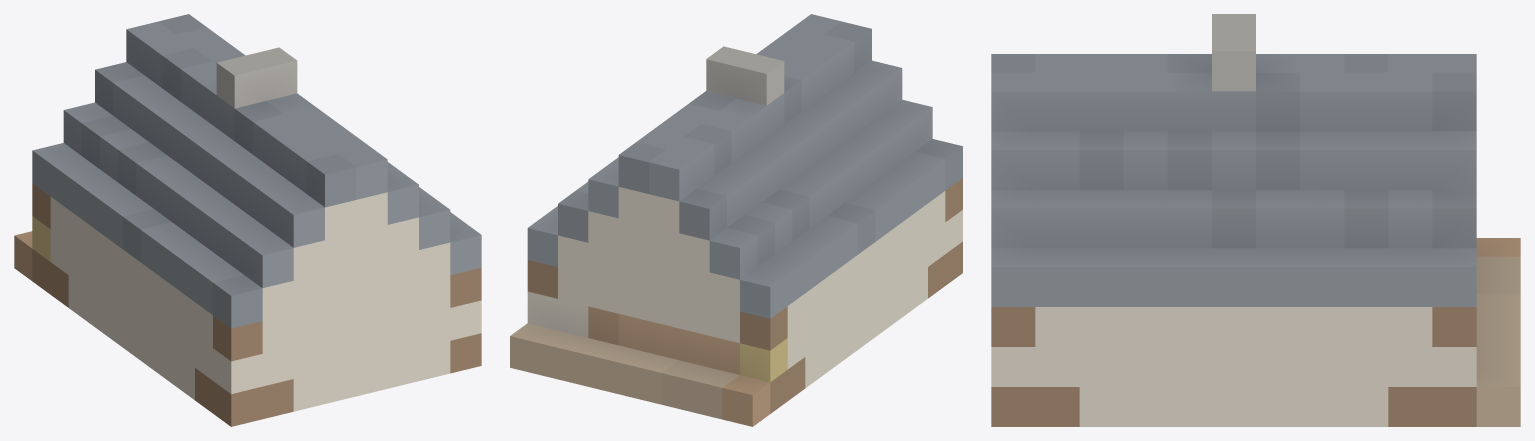
File: salt_works.lite.glb
3 views of the same model, side by side, from view 1: azimuth 30°, elevation 25°; view 2: azimuth 150°, elevation 25°; view 3: azimuth 270°, elevation 25° (orthographic). The views are drawn at different scales.
Visible parts, largest first — view 1: salt_works; view 2: salt_works; view 3: salt_works.
Part boxes in pixels (x1,y1,x2,y2): salt_works: [14, 14, 481, 426]; salt_works: [510, 14, 962, 426]; salt_works: [991, 14, 1520, 426].
Bounding box in the file's own units: 4 × 4 × 6.
